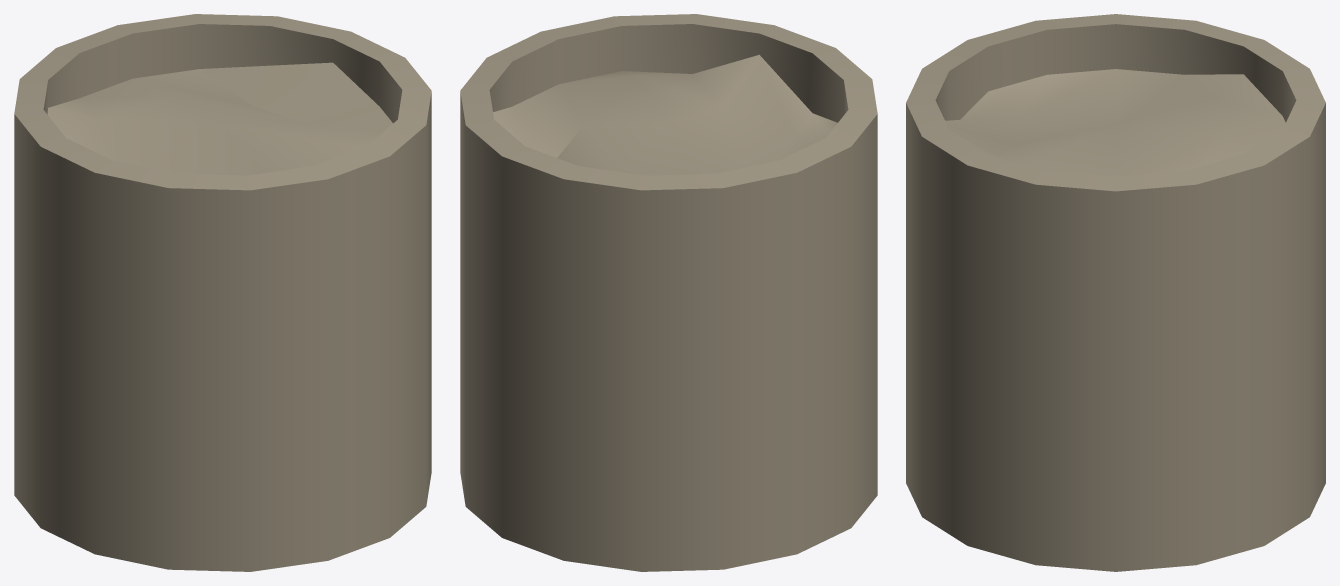
Rendered from SM_FlowerPot_01.fbx.
3 renders of one model, left to right at view 1: azimuth 30°, elevation 25°; view 2: azimuth 150°, elevation 25°; view 3: azimuth 270°, elevation 25°, orthographic.
Parts seen in each view (by area): view 1: SM_FlowerPot_01; view 2: SM_FlowerPot_01; view 3: SM_FlowerPot_01.
Boxes of the visible parts, <box> form: SM_FlowerPot_01: <box>14,14,431,571</box>; SM_FlowerPot_01: <box>460,14,877,571</box>; SM_FlowerPot_01: <box>906,14,1325,571</box>.
Size of what is drawn, in the model's own units: 29.78 by 29.97 by 29.78.
